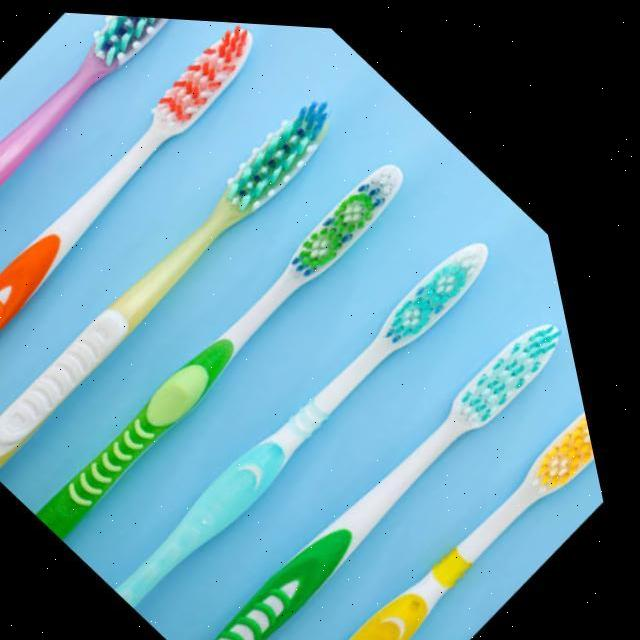toothbrush: (49, 192, 587, 640), (0, 122, 502, 562), (0, 60, 436, 503), (126, 272, 640, 640), (0, 0, 368, 434), (191, 336, 640, 640), (0, 0, 312, 369)
